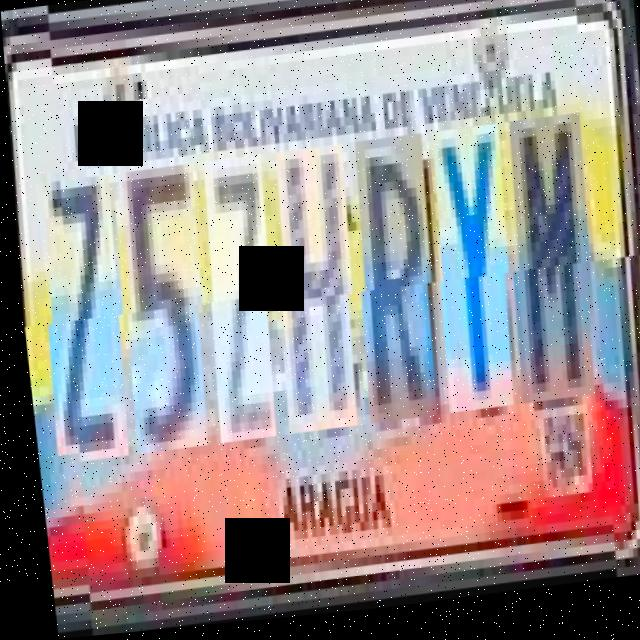5: (111, 165, 217, 456)
H: (266, 149, 367, 439)
M: (498, 122, 605, 413)
R: (345, 140, 446, 430)
Y: (424, 131, 525, 421)
Z: (32, 174, 138, 465), (195, 158, 287, 447)
